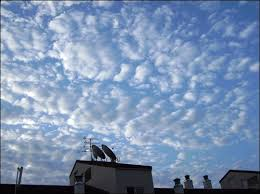house: (62, 140, 157, 194)
sky: (2, 2, 260, 161)
